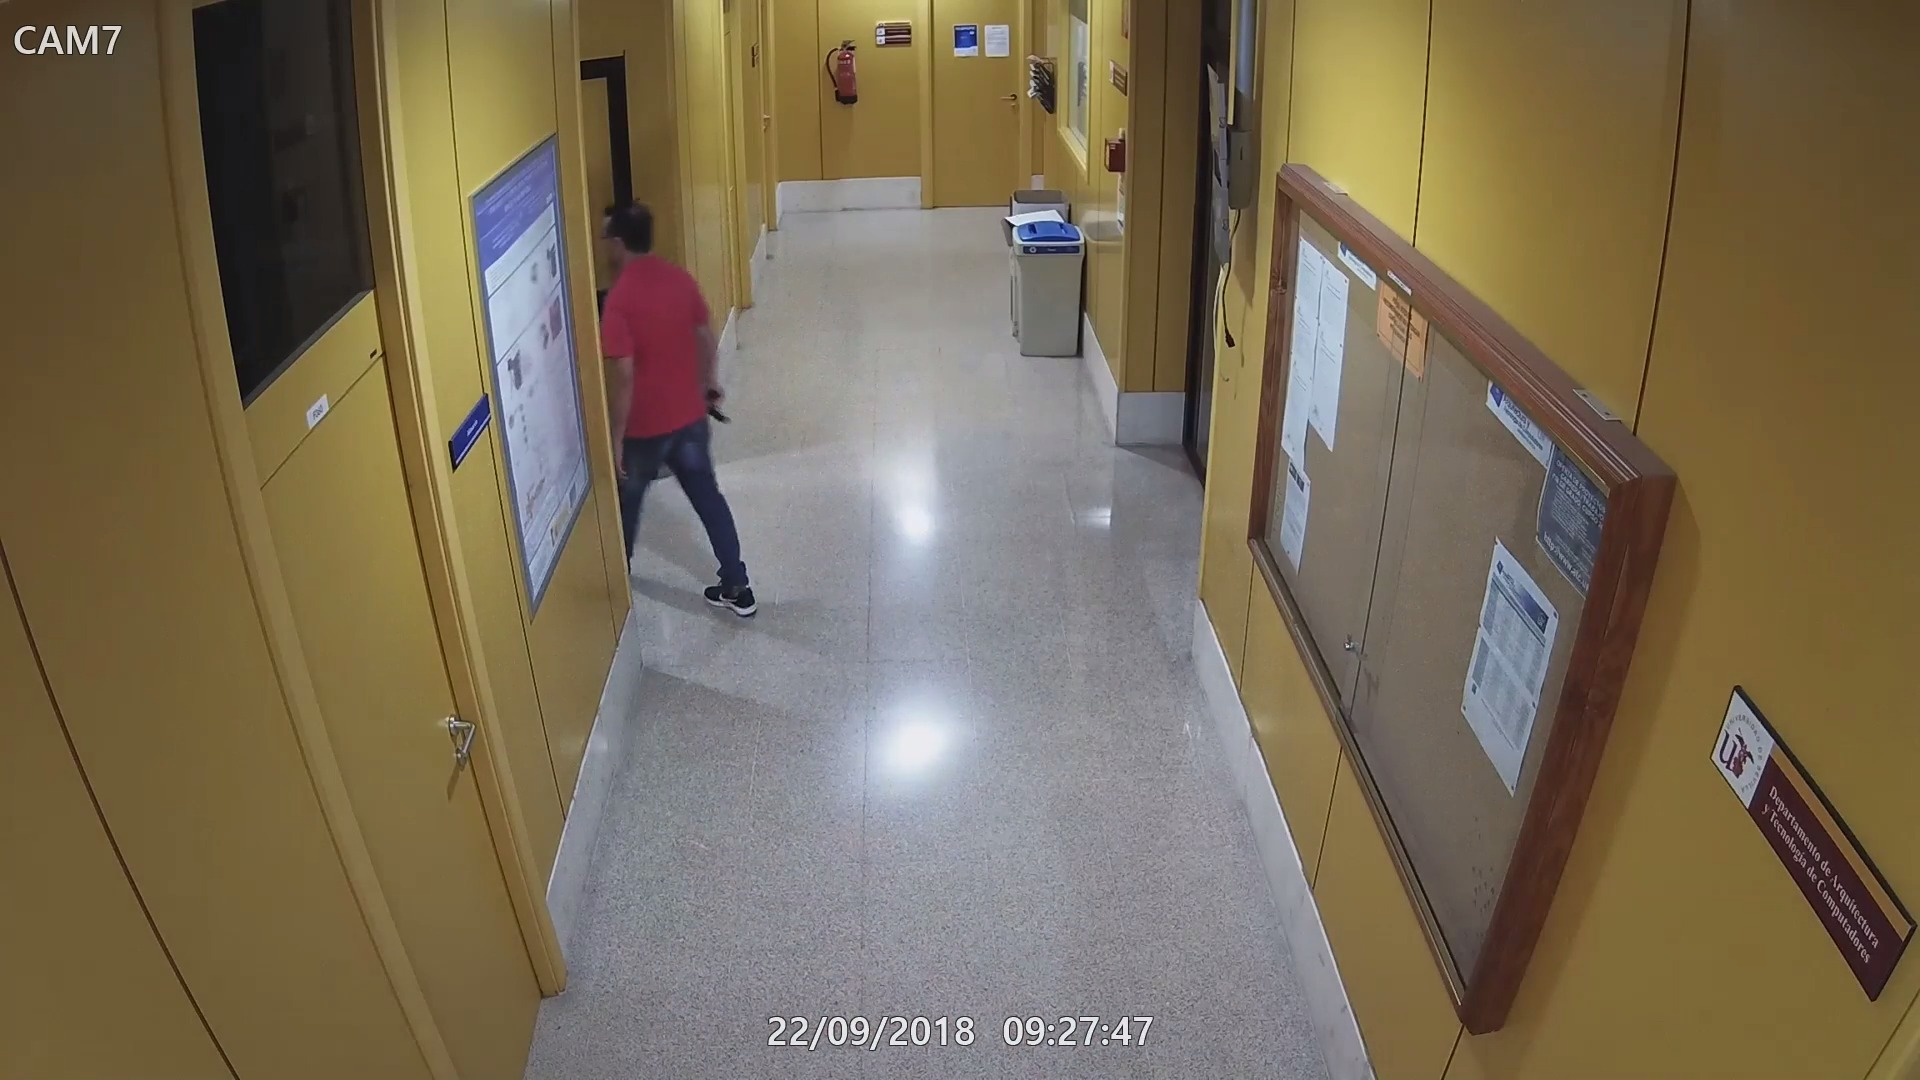Handgun: (698, 381, 733, 425)
